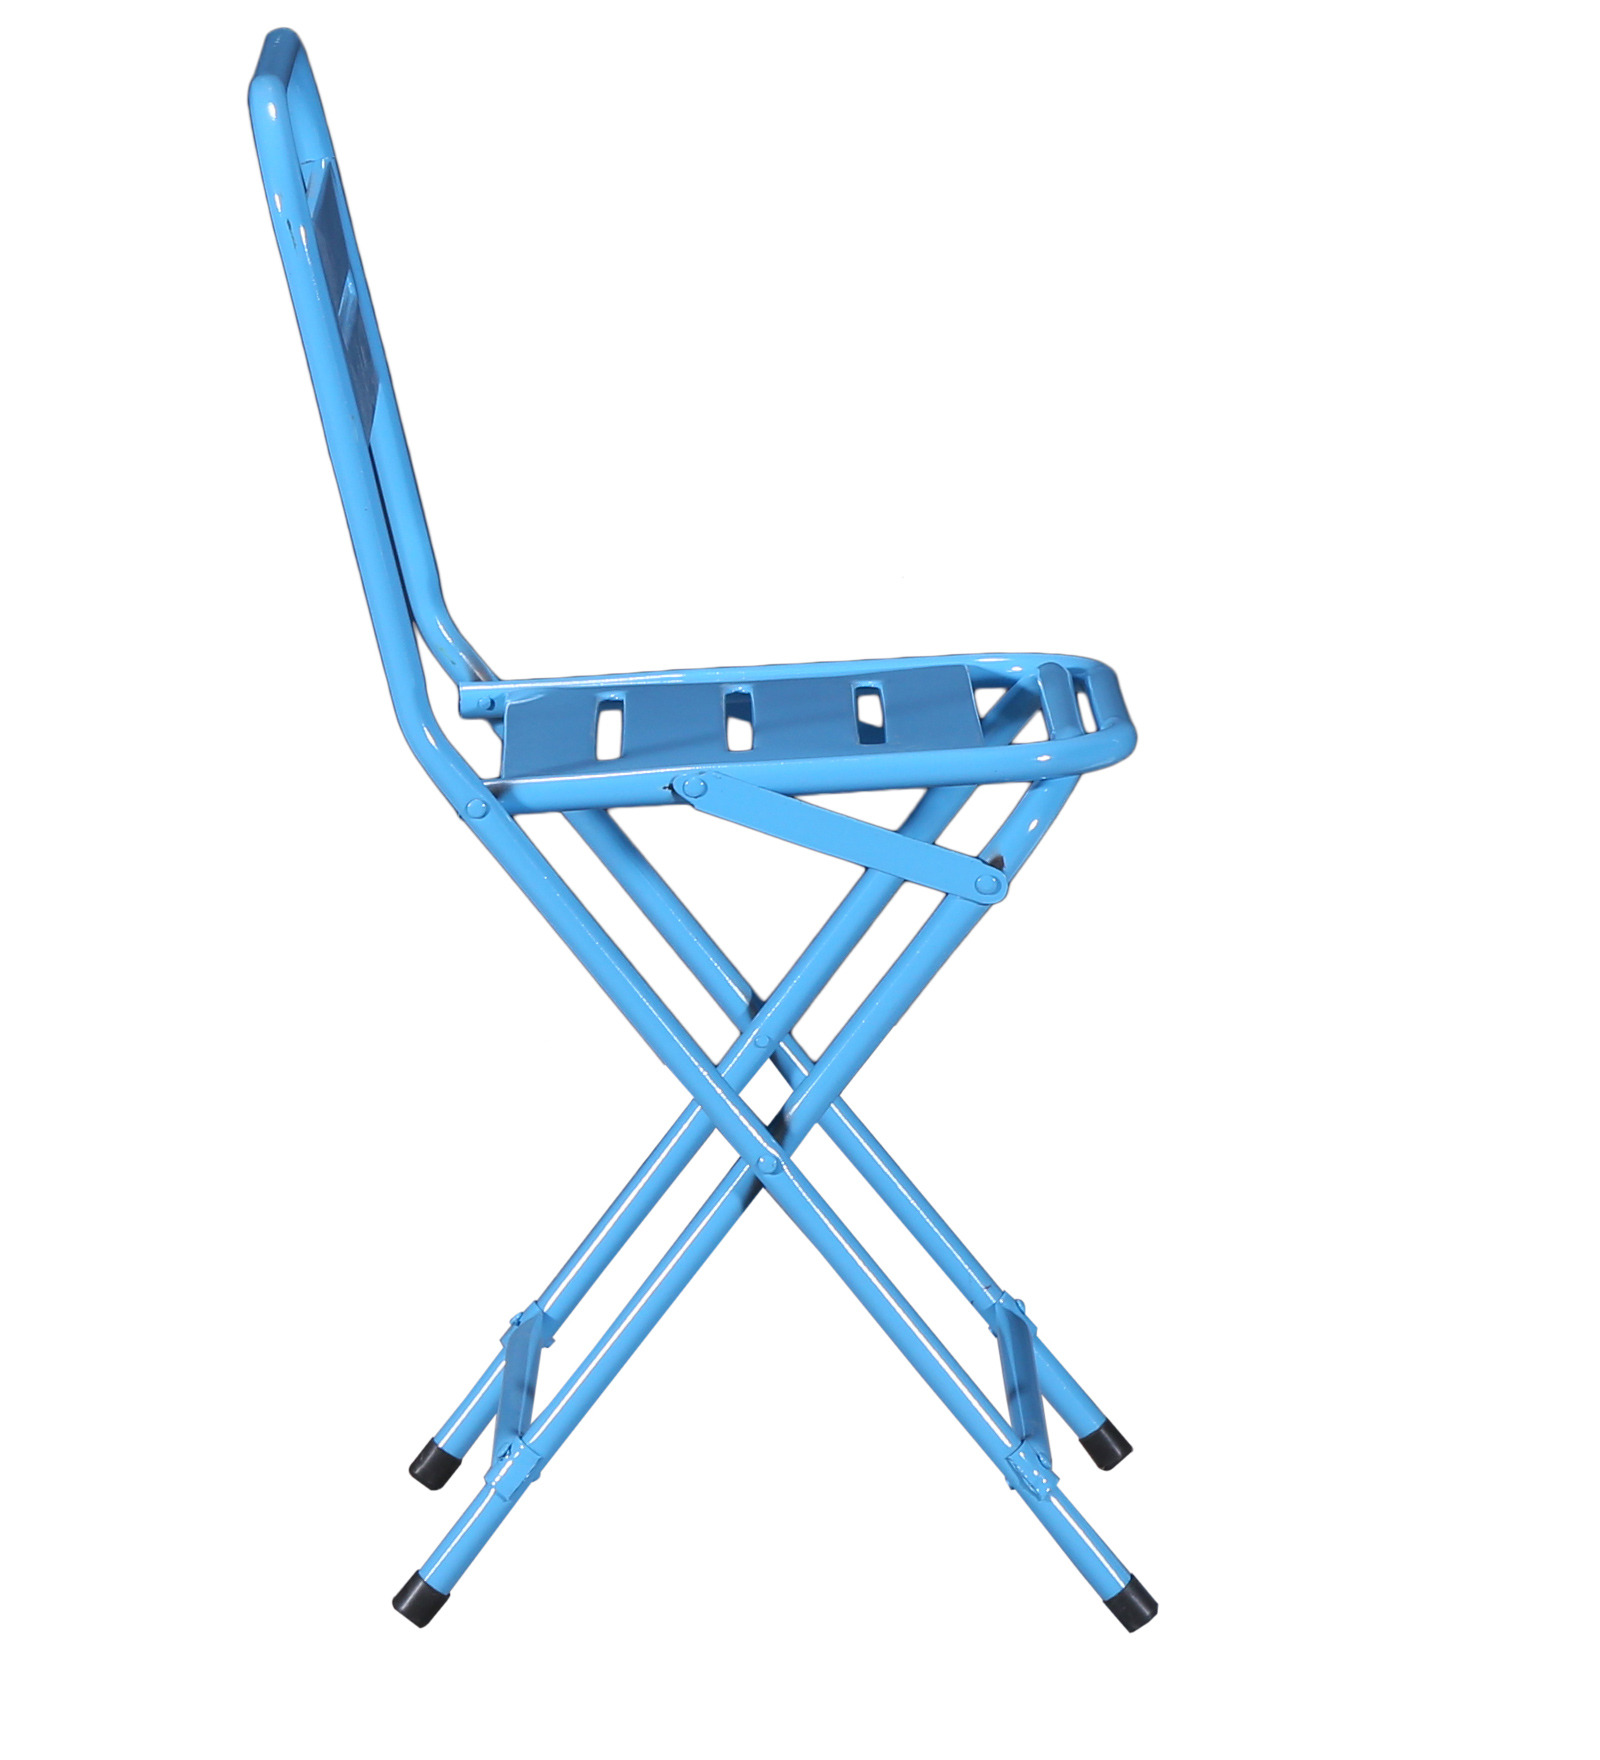Marandoo Grunge Blue Outdoor Folding Chair by Bohemiana: (234, 17, 1185, 1640)
